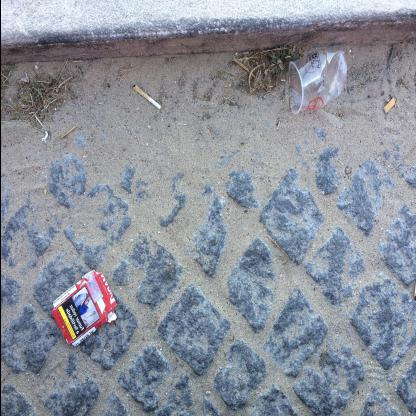karton: (50, 269, 117, 347)
kopuk: (132, 84, 160, 109)
plastik: (287, 49, 346, 115)
